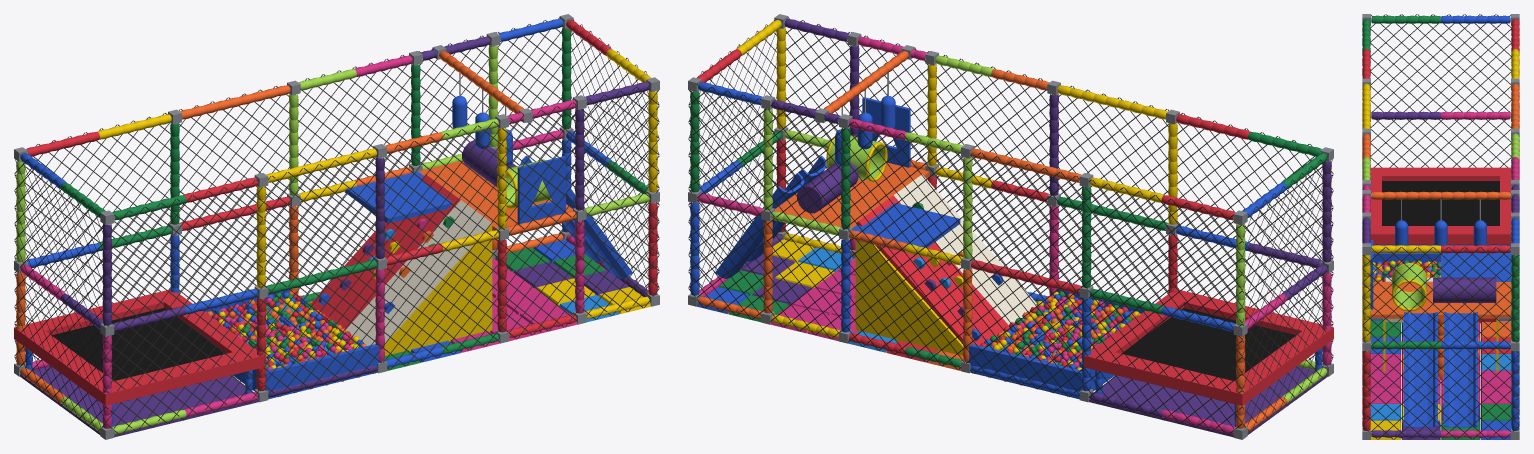
3 renders of one model, left to right at view 1: azimuth 30°, elevation 25°; view 2: azimuth 150°, elevation 25°; view 3: azimuth 270°, elevation 25°, orthographic. The views are drawn at different scales.
Visible parts, largest first — view 1: rede, isotubo, plataforma, acolchoado, piso, bolinhas, borracha, metal, plastico; view 2: rede, isotubo, plataforma, acolchoado, piso, bolinhas, borracha, metal, plastico; view 3: isotubo, rede, acolchoado, piso, plastico, plataforma, borracha, metal, bolinhas.
Part boxes in pixels (left/top/right/bottom): rede: left=14, top=17, right=659, bottom=435; isotubo: left=16, top=19, right=657, bottom=434; plataforma: left=311, top=156, right=572, bottom=355; acolchoado: left=14, top=96, right=551, bottom=437; piso: left=310, top=239, right=650, bottom=370; bolinhas: left=203, top=290, right=366, bottom=369; borracha: left=52, top=308, right=226, bottom=380; metal: left=14, top=14, right=659, bottom=439; plastico: left=318, top=155, right=632, bottom=313; rede: left=688, top=17, right=1333, bottom=435; isotubo: left=690, top=19, right=1331, bottom=434; plataforma: left=775, top=97, right=1036, bottom=355; acolchoado: left=797, top=96, right=1333, bottom=437; piso: left=697, top=239, right=1037, bottom=370; bolinhas: left=980, top=291, right=1140, bottom=369; borracha: left=1121, top=308, right=1295, bottom=380; metal: left=688, top=14, right=1333, bottom=439; plastico: left=715, top=155, right=1003, bottom=340; isotubo: left=1362, top=15, right=1519, bottom=438; rede: left=1362, top=14, right=1519, bottom=439; acolchoado: left=1362, top=167, right=1519, bottom=320; piso: left=1370, top=321, right=1511, bottom=439; plastico: left=1404, top=312, right=1477, bottom=427; plataforma: left=1370, top=240, right=1511, bottom=371; borracha: left=1382, top=181, right=1499, bottom=225; metal: left=1362, top=14, right=1519, bottom=439; bolinhas: left=1373, top=260, right=1440, bottom=281.
Bounding box in the file's own units: 7 × 2.7 × 2.
Materials: 9 (8 with a texture image).
